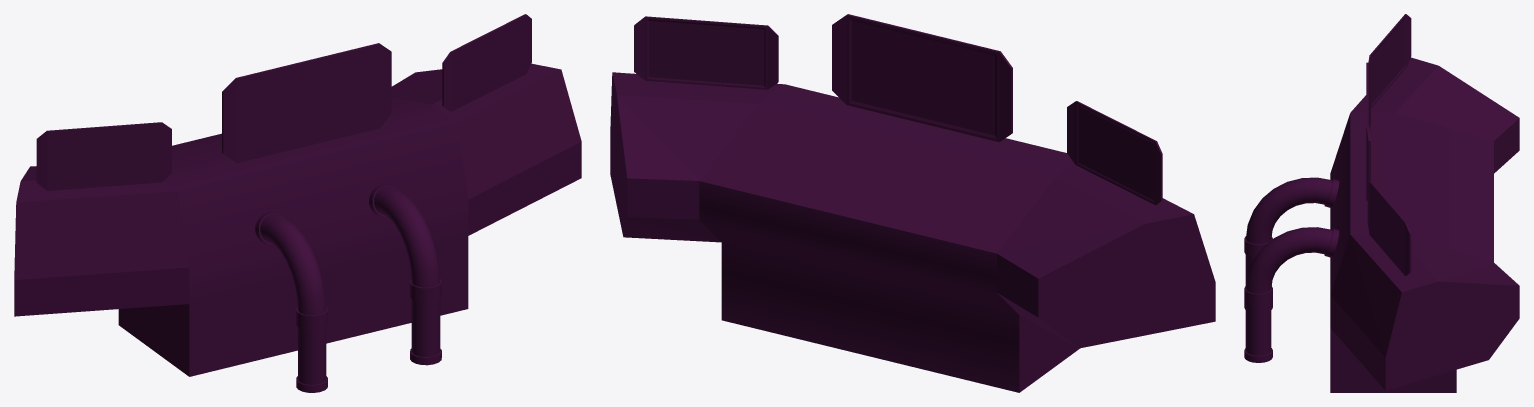
File: SM_ControlTerminal_E.fbx
3 views of the same model, side by side, from view 1: azimuth 30°, elevation 25°; view 2: azimuth 150°, elevation 25°; view 3: azimuth 270°, elevation 25° (orthographic). The views are drawn at different scales.
Visible parts, largest first — view 1: SM_ControlTerminal_E; view 2: SM_ControlTerminal_E; view 3: SM_ControlTerminal_E.
Boxes of the visible parts, box(x1,y1,x2,y2) form: SM_ControlTerminal_E: box(14, 14, 581, 392); SM_ControlTerminal_E: box(610, 14, 1215, 392); SM_ControlTerminal_E: box(1244, 14, 1519, 392).
Size of the model in its own units: 407 by 192 by 183.
